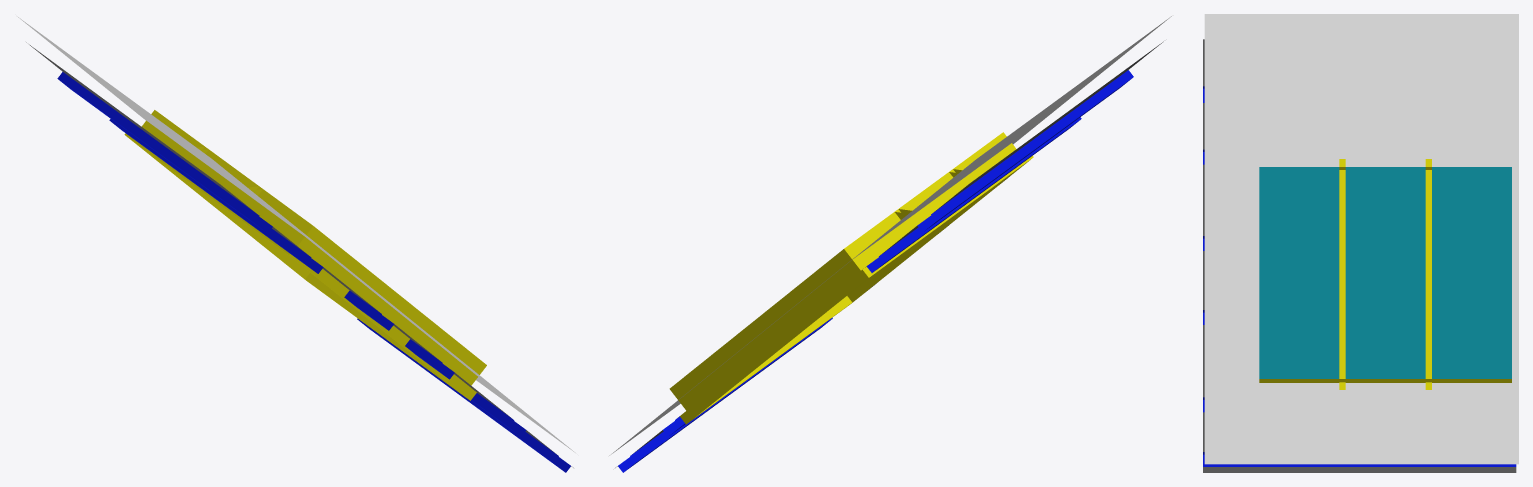
The model's file is takfonster_3.fbx.
3 renders of one model, left to right at view 1: azimuth 30°, elevation 25°; view 2: azimuth 150°, elevation 25°; view 3: azimuth 270°, elevation 25°, orthographic. The views are drawn at different scales.
Parts seen in each view (by area): view 1: polySurface12; view 2: polySurface12; view 3: polySurface12.
Part boxes in pixels (<box>): polySurface12: <box>17,16,575,472</box>; polySurface12: <box>609,16,1171,472</box>; polySurface12: <box>1203,14,1518,472</box>.
Size of the model in its own units: 216 by 224 by 202.
